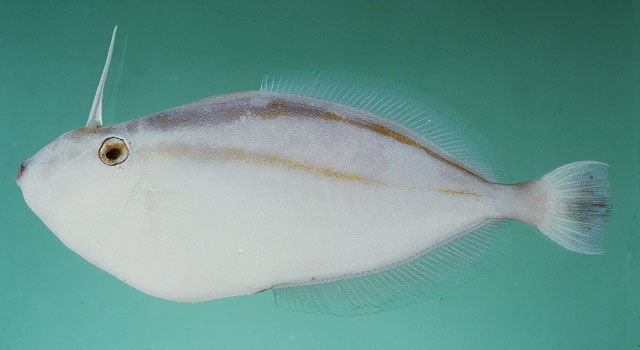fish: (17, 26, 615, 315)
